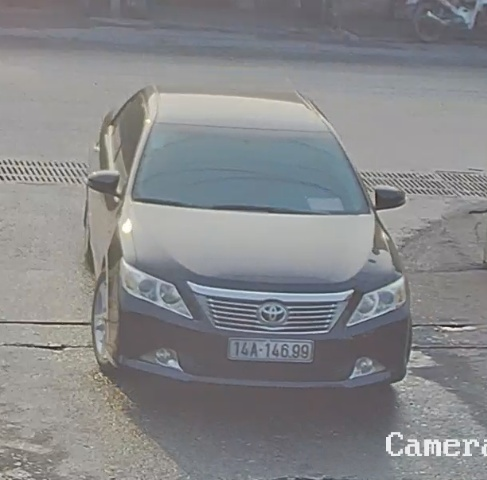vehicle plate: (222, 333, 320, 366)
